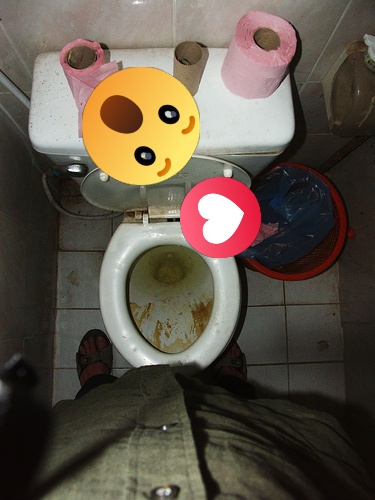love: (180, 177, 261, 258)
wow: (82, 67, 200, 185)
